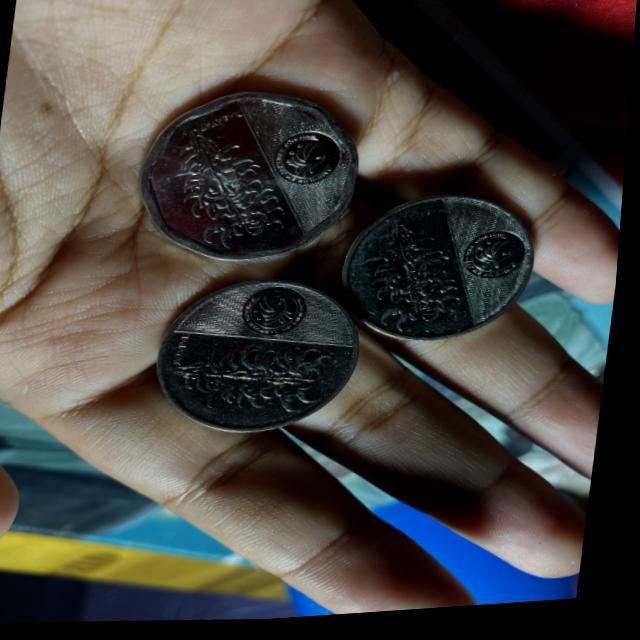5_New_Back: (161, 120, 289, 249), (364, 218, 469, 344), (176, 342, 343, 418)
